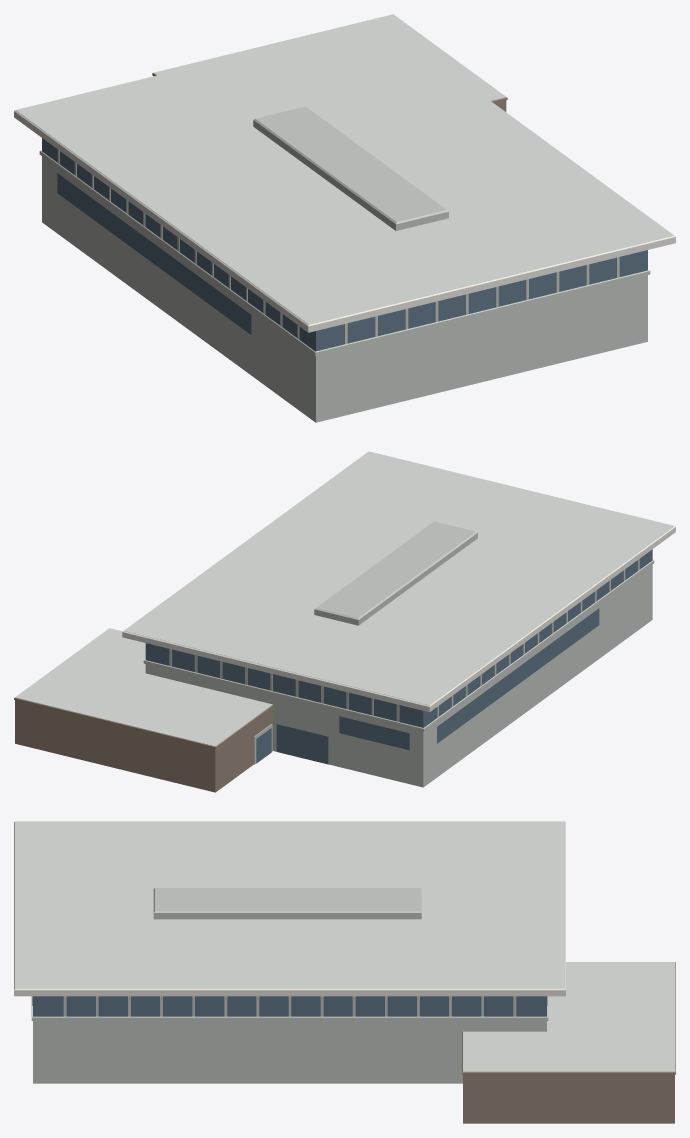
Rendered from sd-san-ysidro-ped-west.glb.
3 views of the same model, one above another, from view 1: azimuth 30°, elevation 25°; view 2: azimuth 150°, elevation 25°; view 3: azimuth 270°, elevation 25° (orthographic). The views are drawn at different scales.
Visible parts, largest first — view 1: San Ysidro Port of Entry, PedWest; view 2: San Ysidro Port of Entry, PedWest; view 3: San Ysidro Port of Entry, PedWest.
Boxes of the visible parts, left/top/right/bottom form: San Ysidro Port of Entry, PedWest: left=14, top=14, right=675, bottom=422; San Ysidro Port of Entry, PedWest: left=14, top=451, right=675, bottom=792; San Ysidro Port of Entry, PedWest: left=14, top=821, right=675, bottom=1123.
Bounding box in the file's own units: 49.6 × 12.7 × 69.2.
